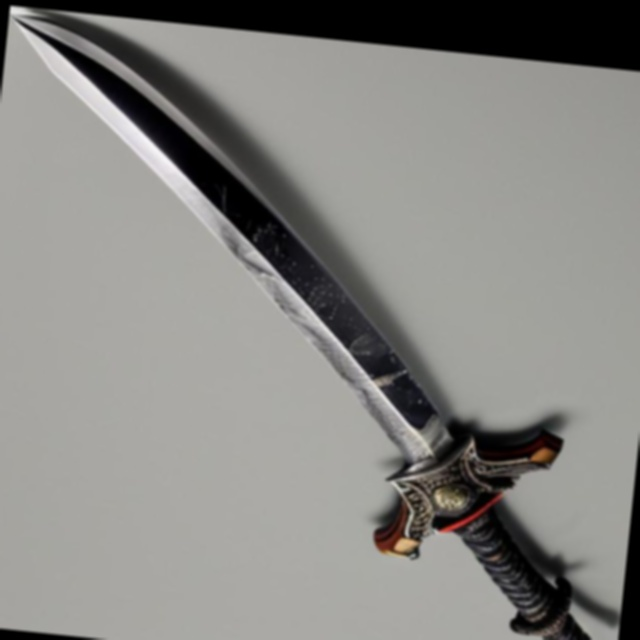Sharp-Object: (0, 8, 640, 640)
